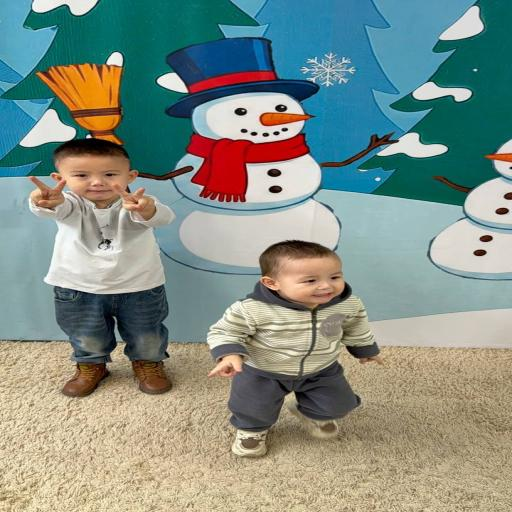bus_stop: (208, 240, 382, 457), (29, 139, 174, 397)
